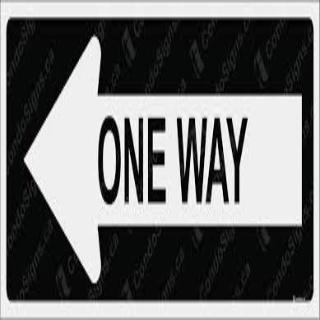sign_oneway_left: (0, 5, 315, 314)
